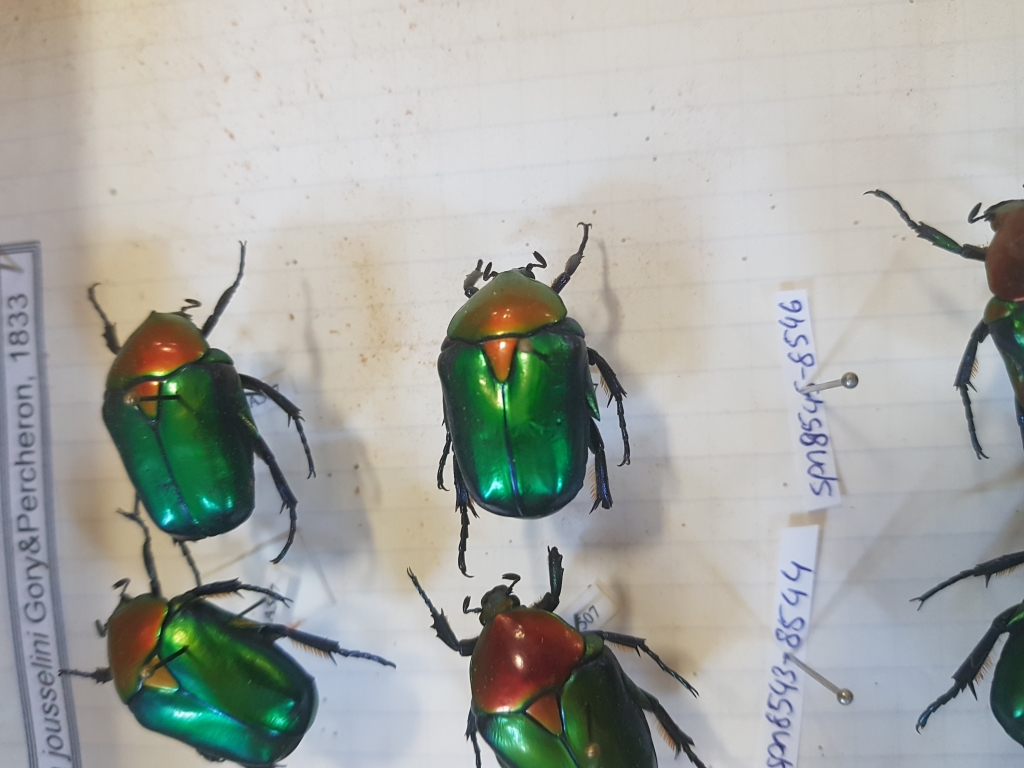Protaetia_speciosa_jousseliniw: (48, 495, 410, 768), (71, 231, 319, 577), (423, 212, 632, 578)
